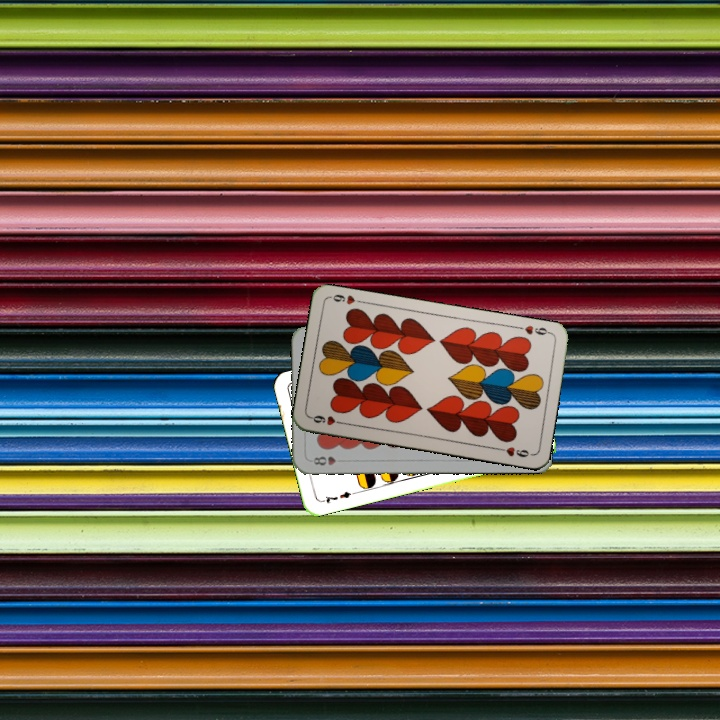E7: (317, 487, 357, 506)
H8: (310, 452, 347, 468)
H9: (307, 411, 347, 428), (513, 321, 553, 338)
